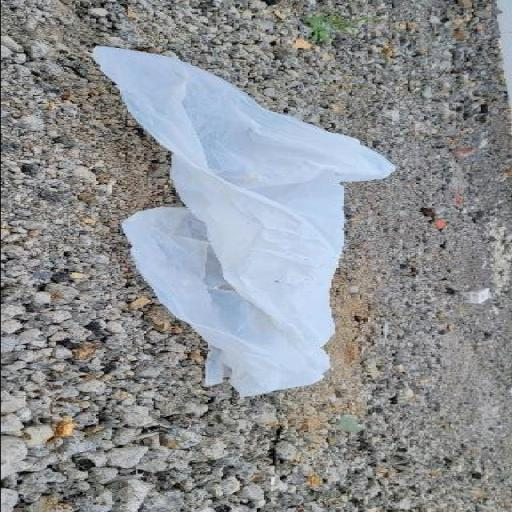plastic-bag: (92, 45, 398, 398)
